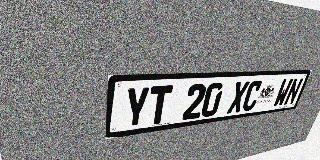0: (200, 82, 225, 118)
2: (182, 83, 207, 120)
C: (241, 80, 264, 112)
N: (283, 78, 304, 106)
T: (146, 85, 173, 125)
W: (272, 79, 294, 107)
X: (226, 81, 250, 114)
Y: (123, 86, 150, 129)
